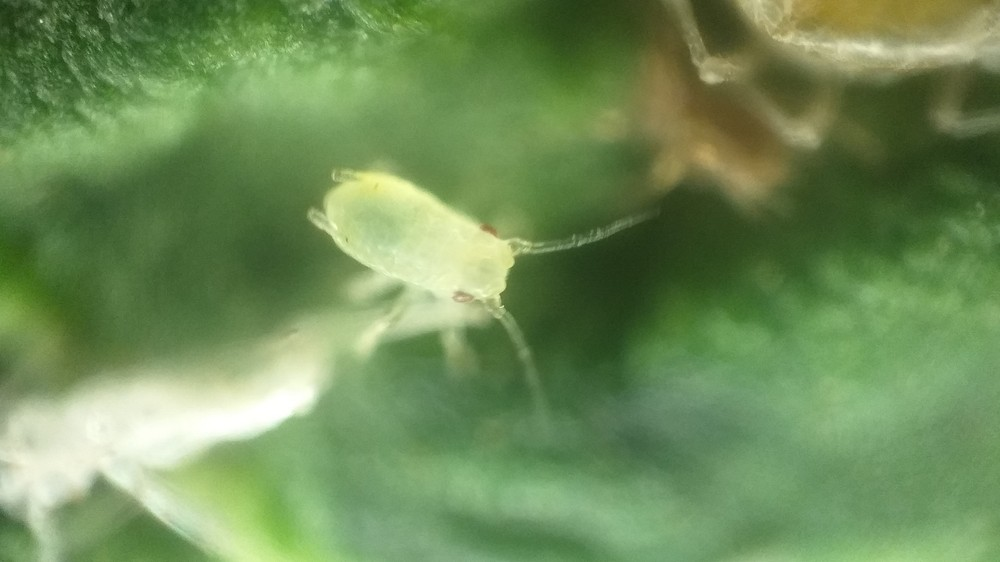Pulgon: (252, 141, 681, 437)
